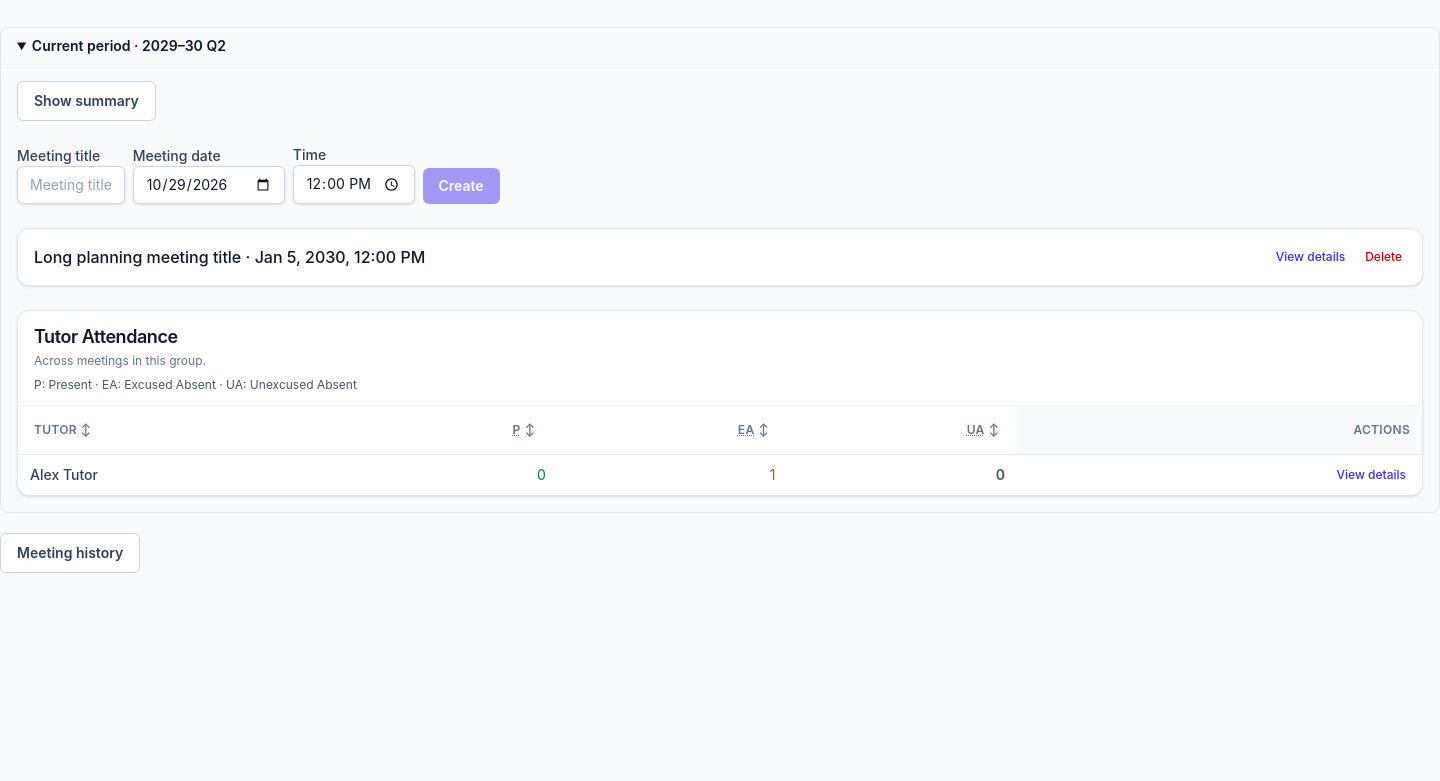
it: keeps meeting totals and matrix cells brief and makes full reasons available from details
Expected: the column heading "Actions" is shown, [1017,406,1422,454]
Expected: the text "Academic competition" is not shown
Click the button with aria-label "View details: Alex Tutor" at (1371, 475), box [1332,463,1410,487]
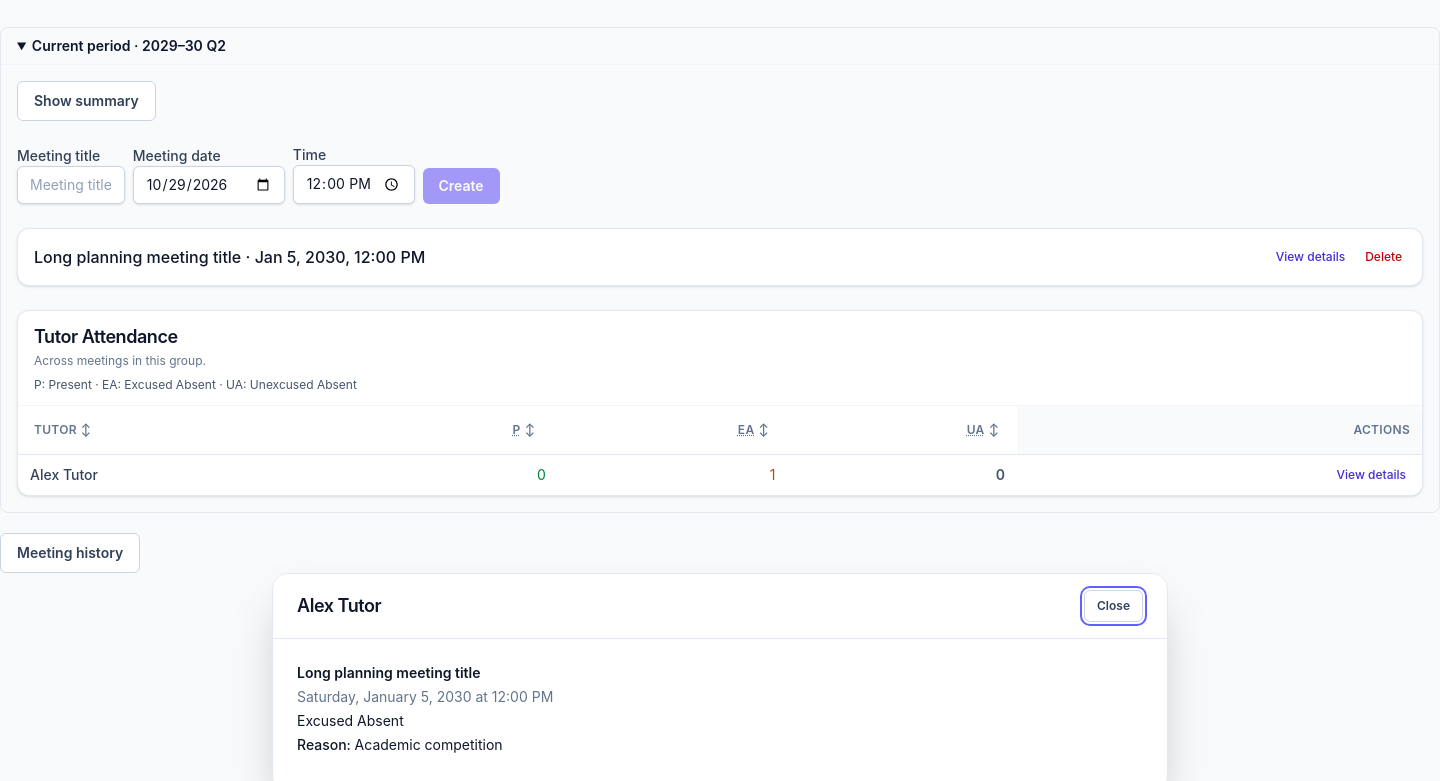
Now the text "Academic competition" is shown, box [355,736,503,753]
Click the button "Close" at (1114, 606), box [1084,590,1143,622]
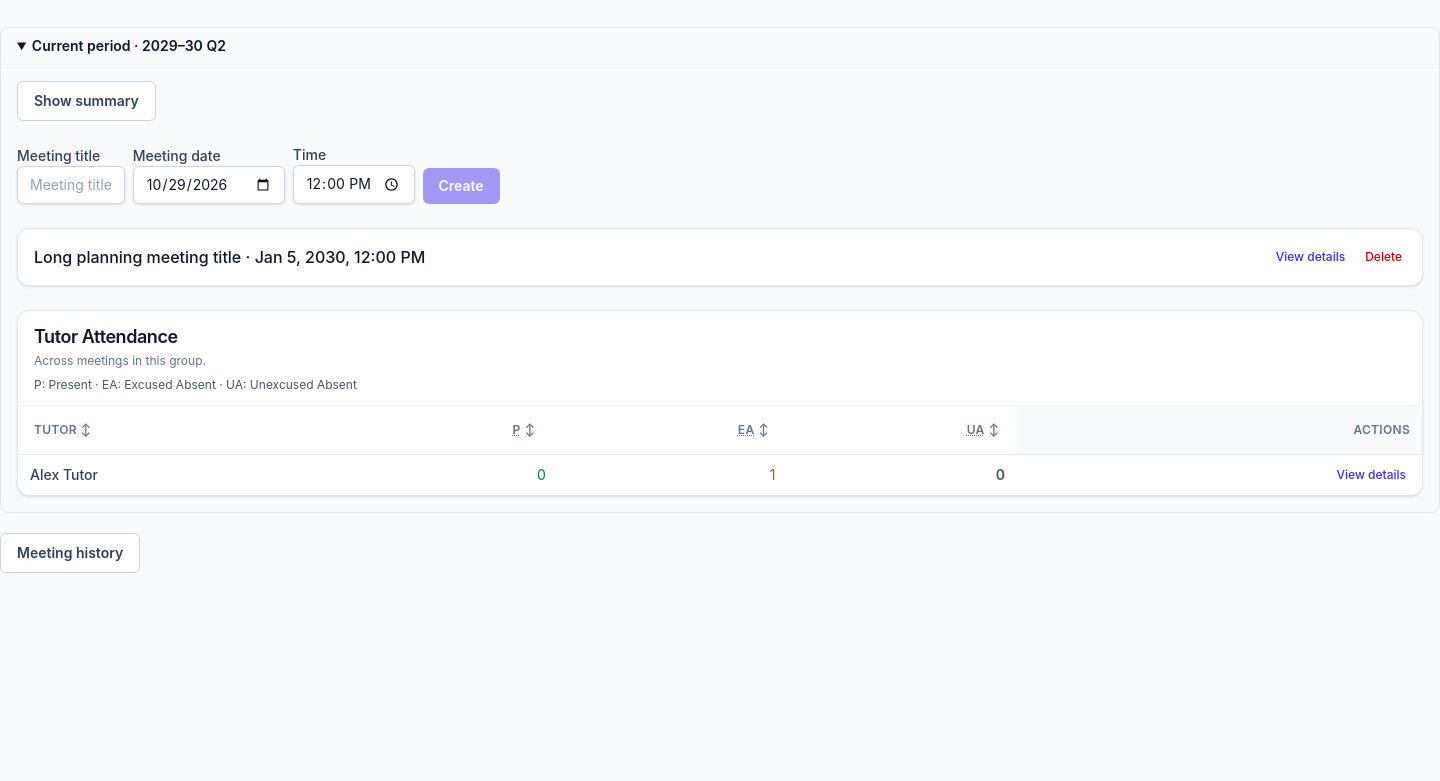
Click the button "Show summary" at (86, 101), box [17,81,156,121]
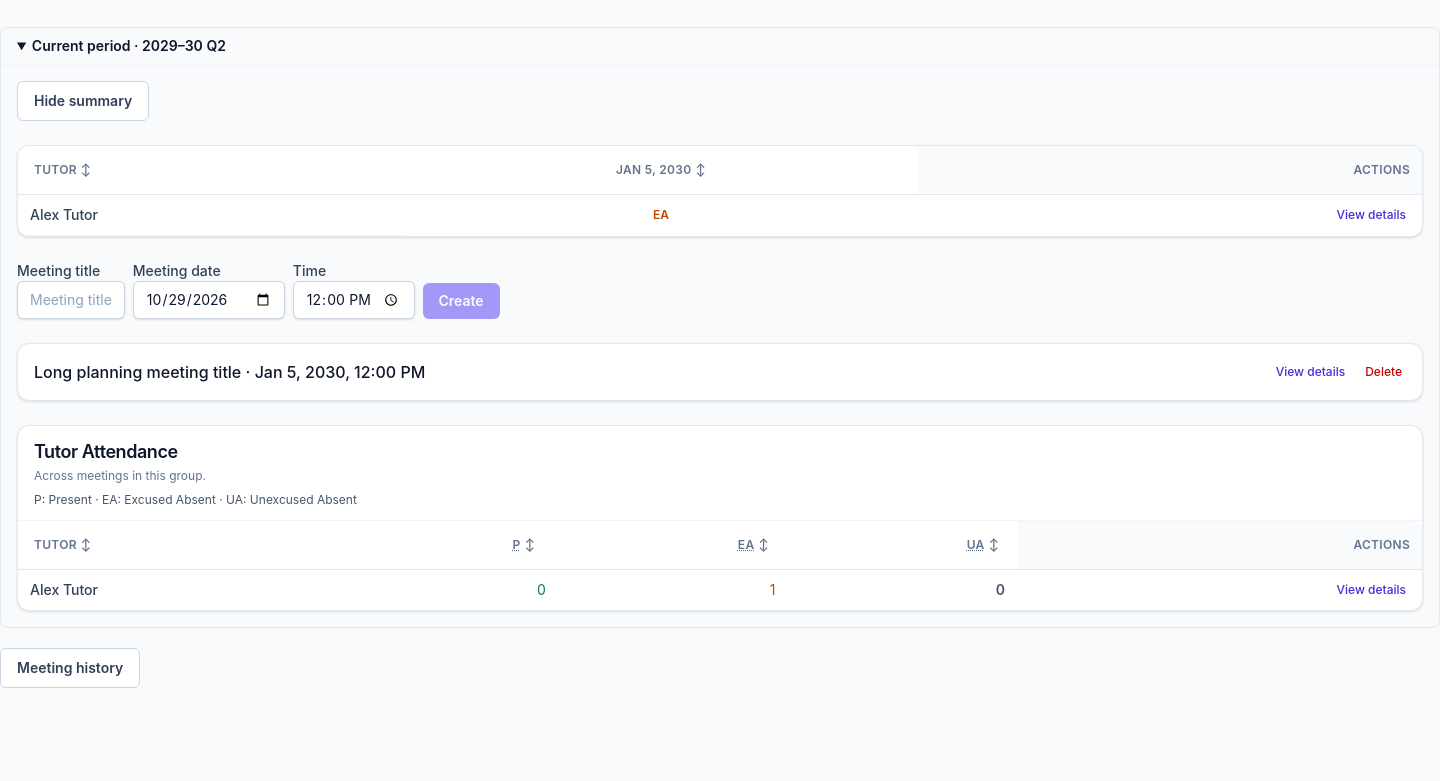
Now the 1st column heading "Actions" is shown, box [918,146,1422,194]
Now the 1st button "View details" is shown
Now the text "EA" is shown, box [404,194,917,235]
Click the button with aria-label "View details: Alex Tutor" at (1371, 215), box [1332,203,1410,227]
(page scrolled)
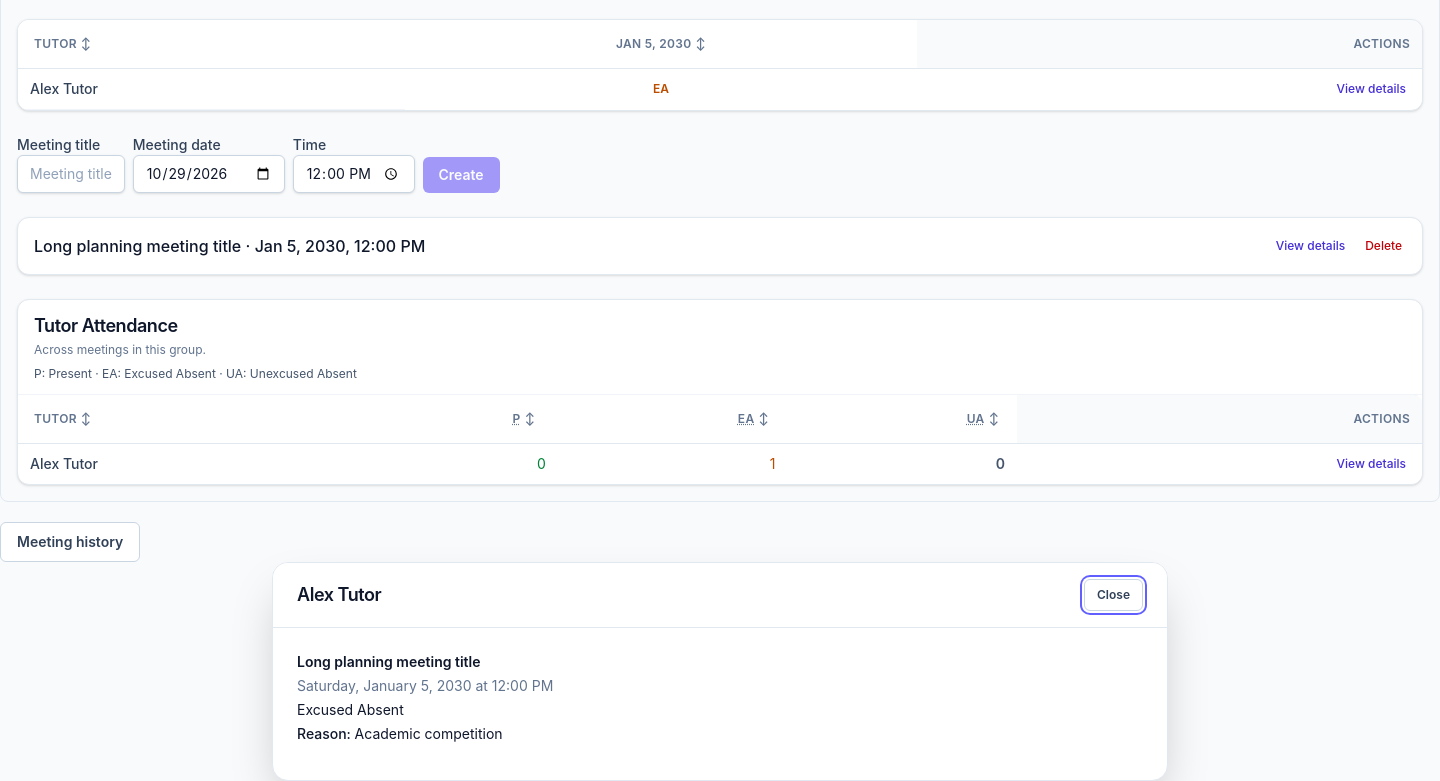
Now the heading "Long planning meeting title" is shown, box [297,653,480,670]
